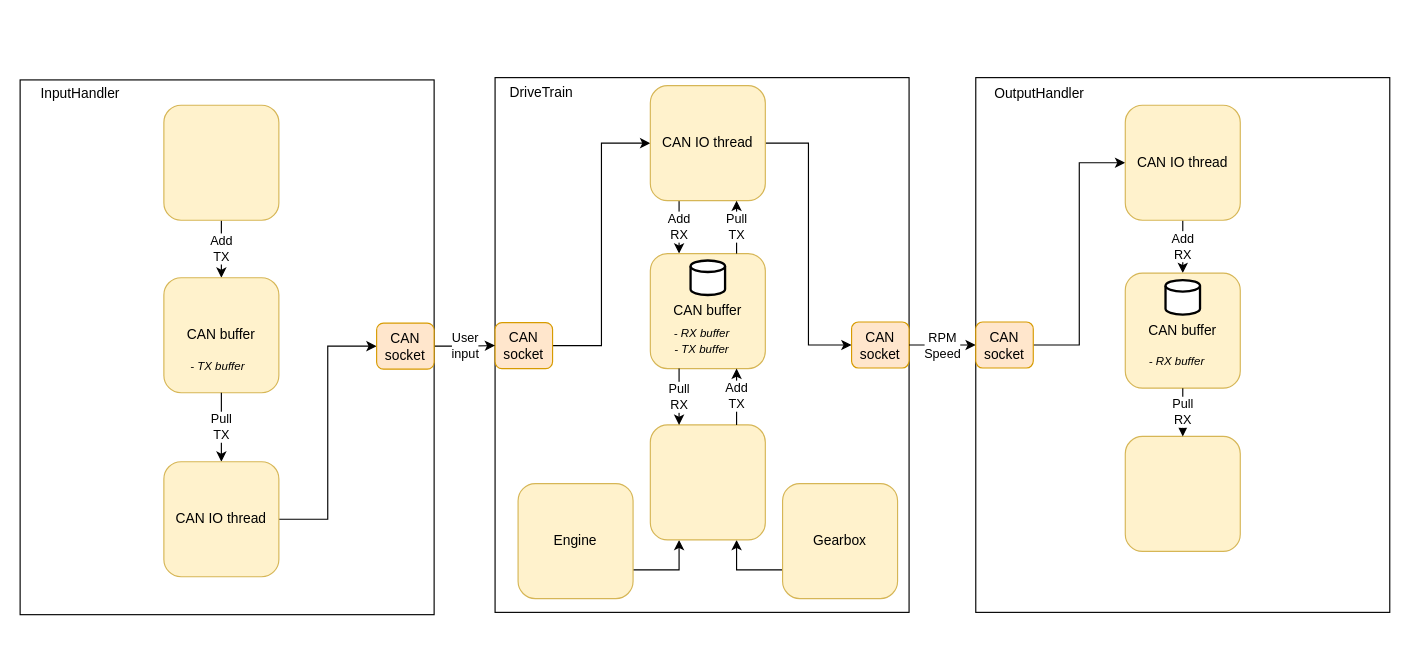
This 1410x660 diagram has some shape labels left out. Each missing label, with the centre of its shape:
Keyboard Input Reader: the point at 221,162
Print CAN messages: the point at 1182,493
Vehicle: the point at 707,482
